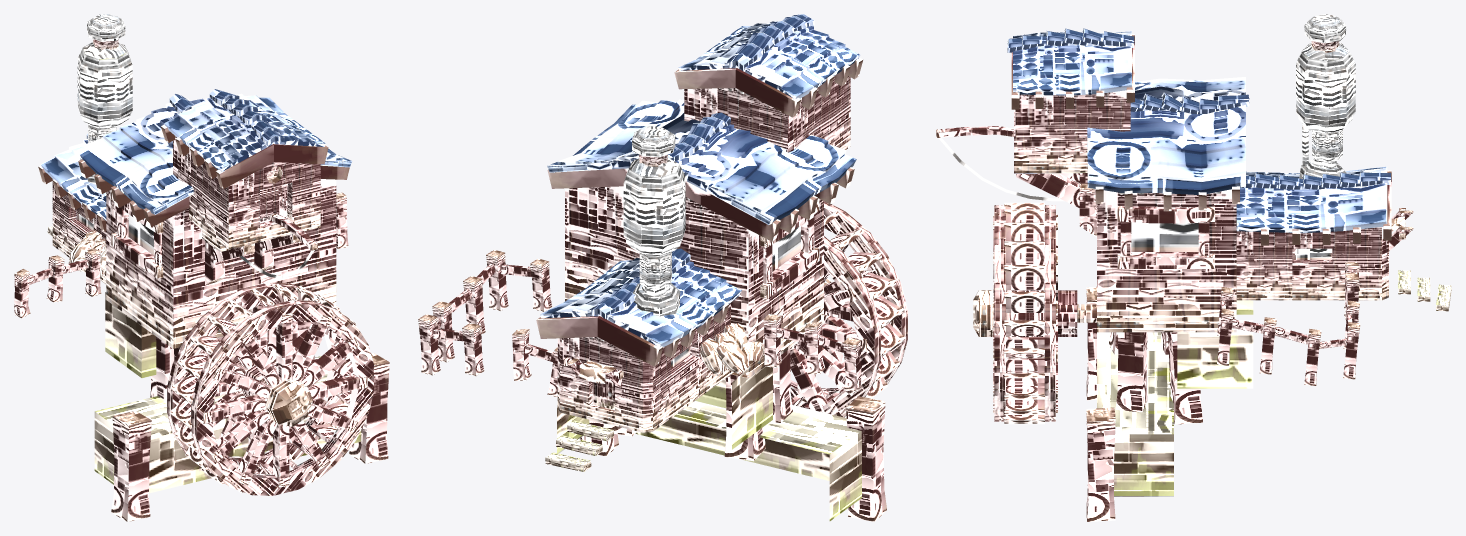
The model's file is water-mill.fbx.
3 renders of one model, left to right at view 1: azimuth 30°, elevation 25°; view 2: azimuth 150°, elevation 25°; view 3: azimuth 270°, elevation 25°, orthographic. The views are drawn at different scales.
Parts seen in each view (by area): view 1: polySurface52, polySurface1; view 2: polySurface52, polySurface1; view 3: polySurface52, polySurface1.
Boxes of the visible parts, <box> form: polySurface52: <box>14,14,389,521</box>; polySurface1: <box>167,282,373,495</box>; polySurface52: <box>418,14,886,521</box>; polySurface1: <box>790,201,907,417</box>; polySurface52: <box>936,14,1451,521</box>; polySurface1: <box>973,202,1077,424</box>.
Size of the model in its own units: 139 by 158 by 178.
1 material, 1 textured.
